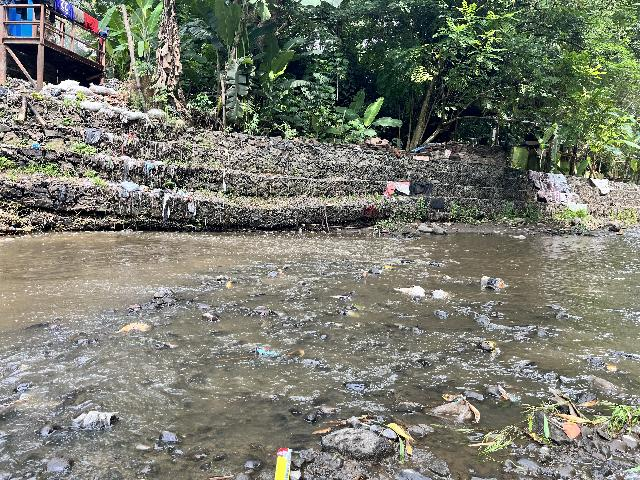Sampah Anorganik: (429, 393, 481, 425), (272, 447, 292, 480), (492, 378, 517, 402), (480, 273, 507, 291), (394, 285, 426, 297), (251, 344, 277, 355), (430, 290, 452, 300), (331, 295, 352, 301), (381, 265, 393, 271), (299, 281, 303, 284)
Sampah Organik: (523, 386, 639, 440), (315, 414, 418, 462), (115, 321, 150, 333), (345, 304, 365, 319), (285, 347, 309, 357), (603, 363, 617, 373), (488, 341, 499, 353), (124, 304, 141, 311), (261, 308, 269, 318), (277, 269, 285, 275), (226, 281, 232, 287), (363, 272, 366, 277)
